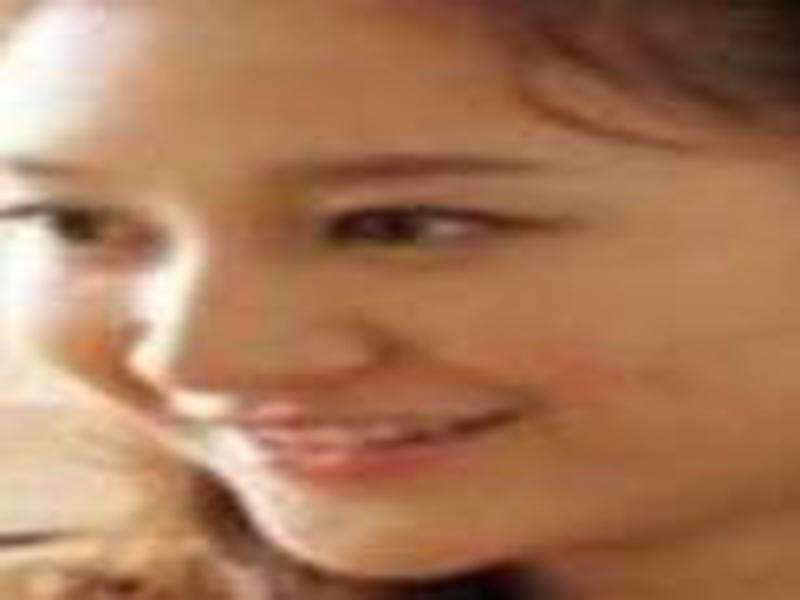without_mask: (2, 38, 734, 580)
